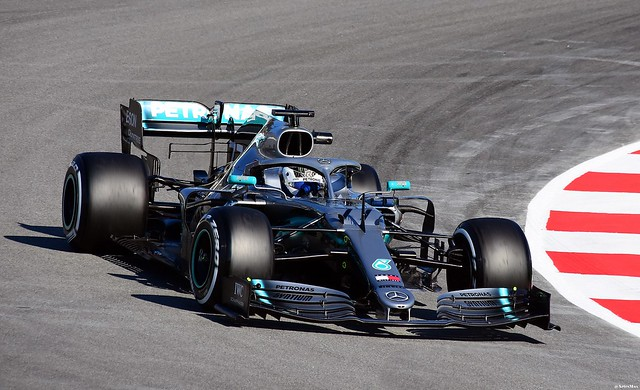F1 Car: (50, 97, 563, 345)
